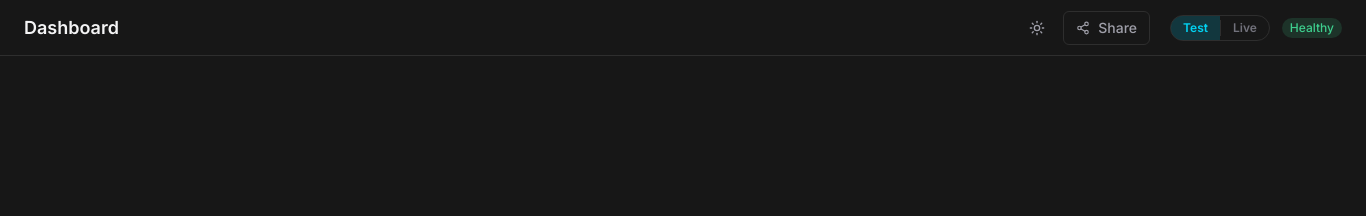
it: TopBar responsive layout › contains the Share popover within mobile gutters and preserves desktop anchoring
Click the button "Share".
click(1107, 28)  # box [1063,10,1150,44]
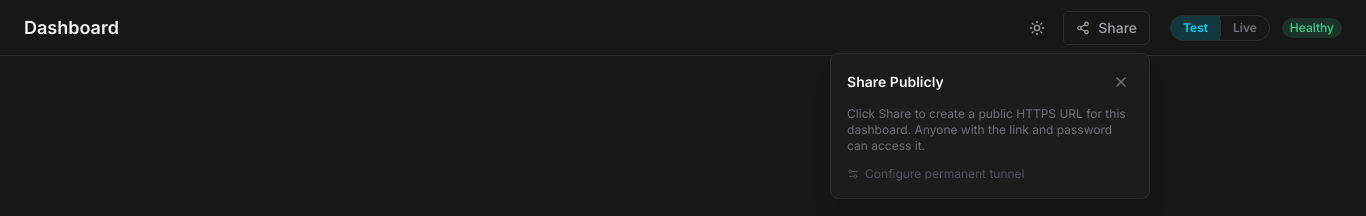
Now the heading "Share Publicly" is shown, box [847,72,944,92]
